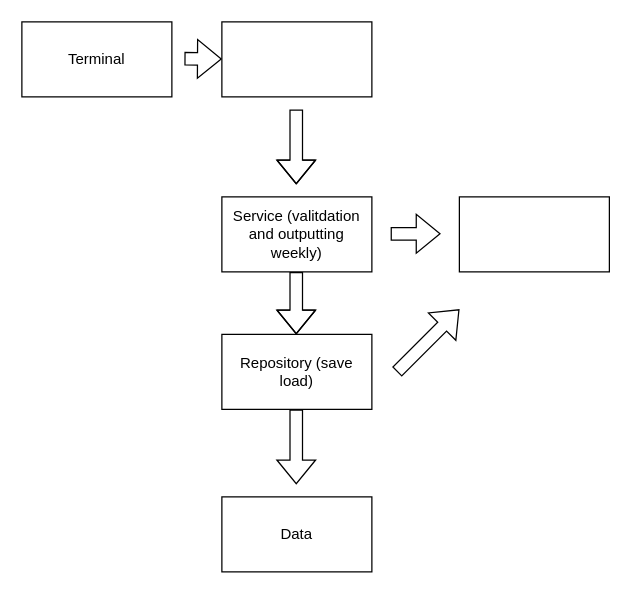
The diagram is 631 pixels wide and 594 high, and some of its shapes have lost their labels. Here are the shapes that lost their labels. From the top down, the box of each, then its label:
(221, 21, 372, 97): CLI (log list stats)
(458, 196, 609, 272): Study session (with the needed varibales)
